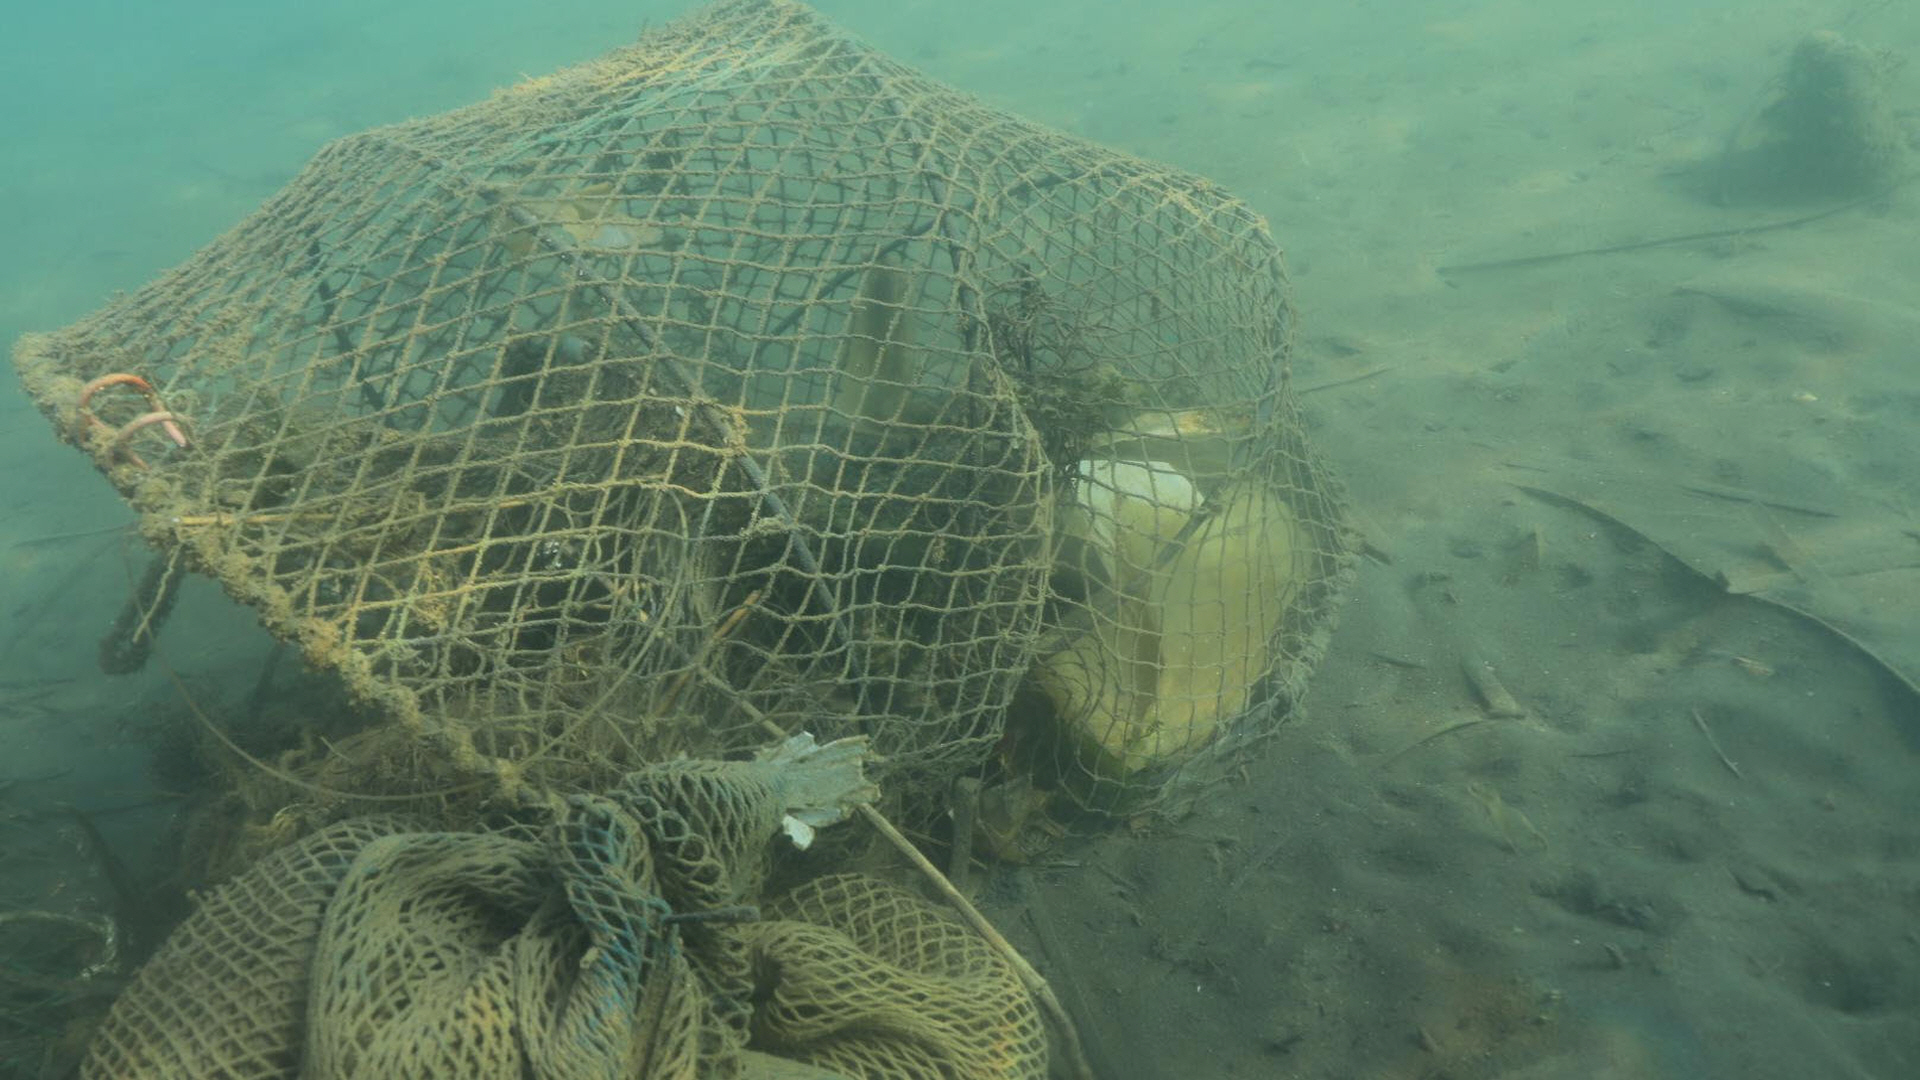fish net: (79, 742, 1054, 1080)
spring fish trap: (3, 5, 1361, 857)
